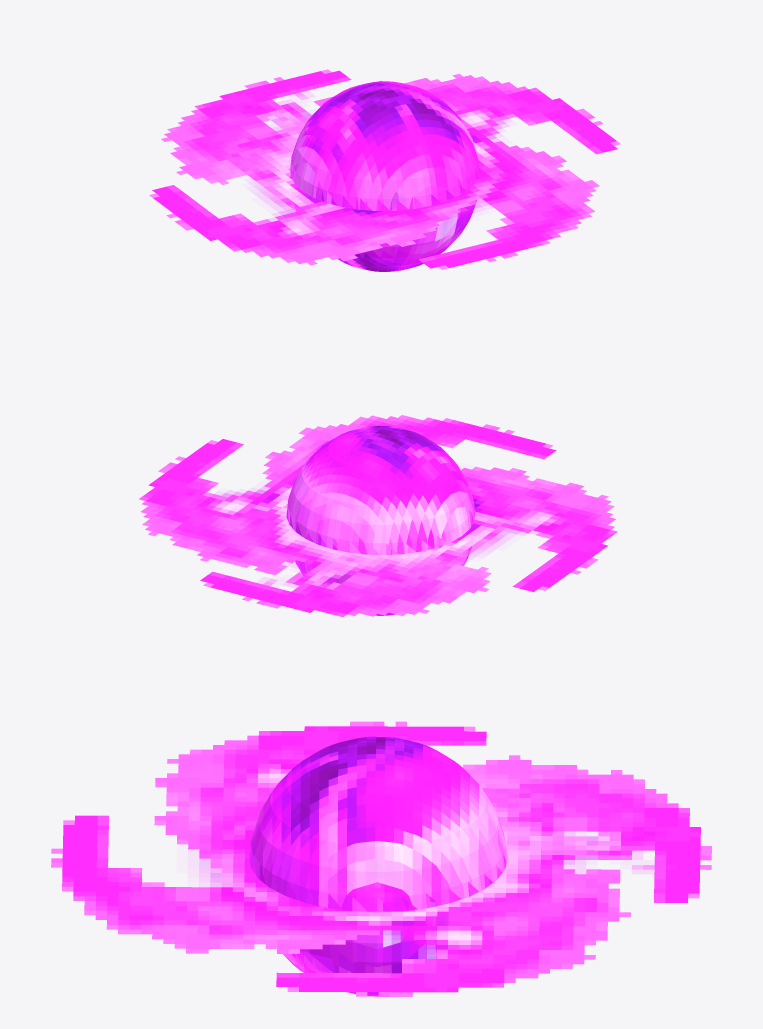
Rendered from vortex.glb.
The picture shows the model from 3 angles, top to bottom: view 1: azimuth 30°, elevation 25°; view 2: azimuth 150°, elevation 25°; view 3: azimuth 270°, elevation 25°; orthographic projection. The views are drawn at different scales.
Visible parts, largest first — view 1: Sphere.001; view 2: Sphere.001; view 3: Sphere.001.
Boxes of the visible parts, x1,y1,x2,y2 form: Sphere.001: (149,69,620,271); Sphere.001: (139,415,617,617); Sphere.001: (51,721,711,996).
Size of the model in its own units: 1.32 by 0.4628 by 1.31.
Materials: 1 (1 with a texture image).
